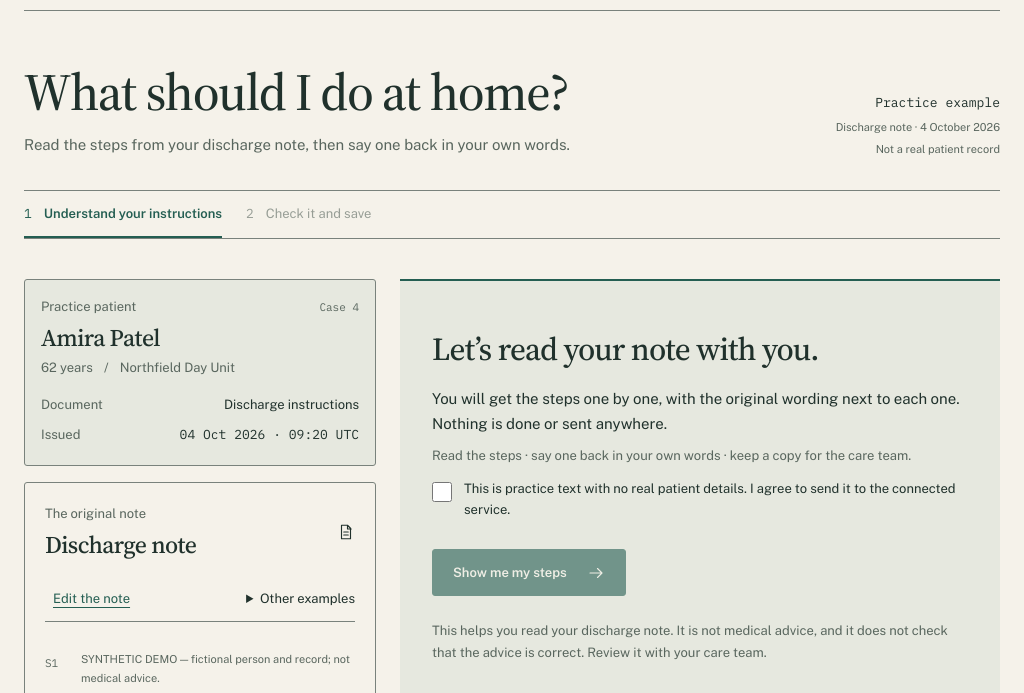
Test: Editorial patient journey › starts with a labeled fictional record and requires consent again after editing
Expected: the heading "Amira Patel" is shown, [41,321,160,354]
Expected: the button "Show me my steps" is disabled, [432,549,626,596]
Click the checkbox labelled "This is practice text" at (442, 492), box [432,482,452,502]
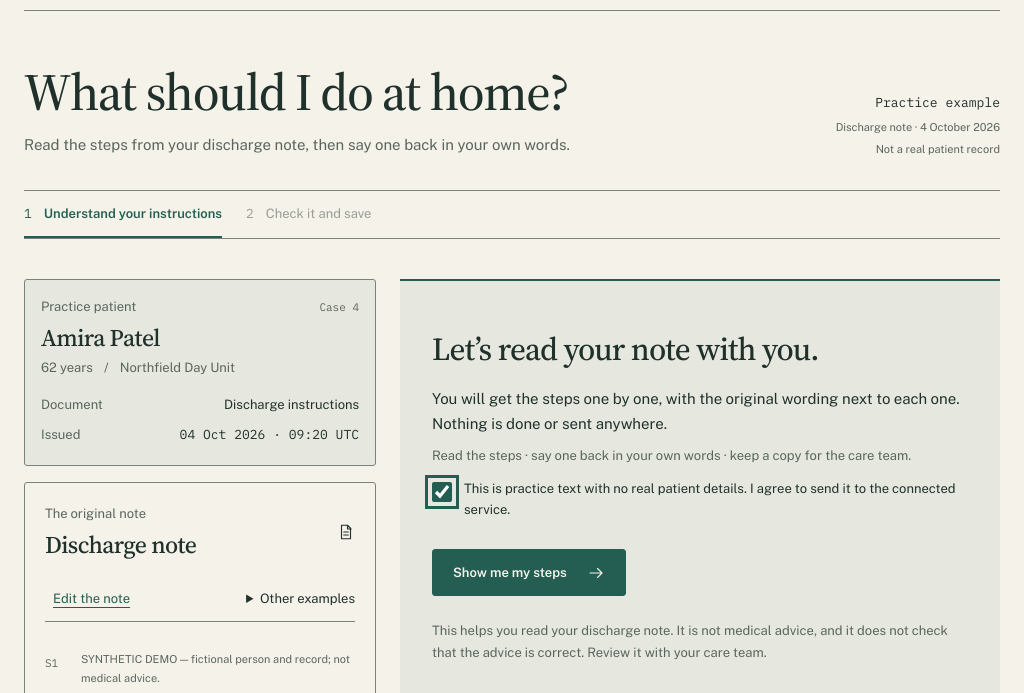
Expected: the button "Show me my steps" is enabled, [432,549,626,596]
Click the button "Edit the note" at (92, 599), box [45,577,138,621]
(page scrolled)
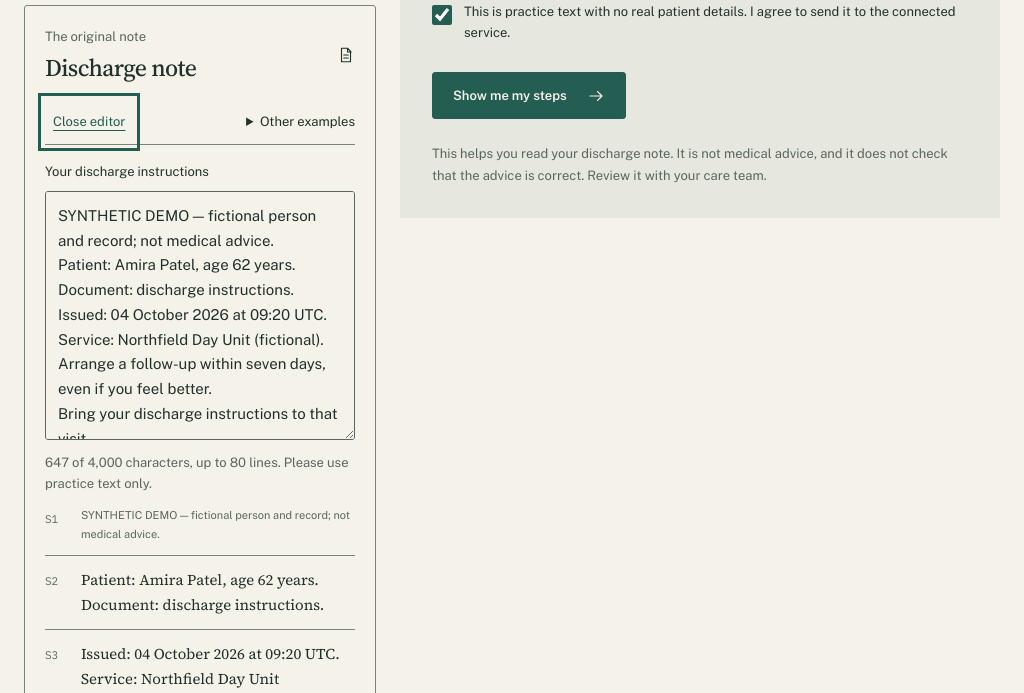
Type " changed" into the text box labelled "Your discharge instructions" at (200, 315), box [45,191,355,440]
(page scrolled)
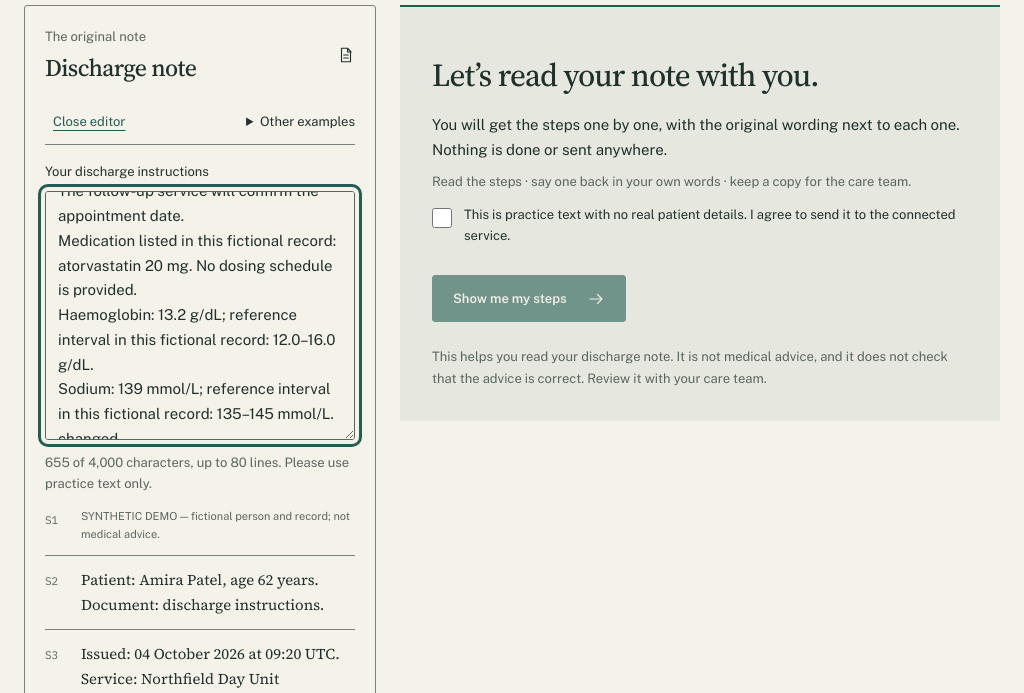
Expected: the button "Show me my steps" is disabled, [432,275,626,322]
